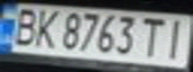3: (112, 12, 142, 56)
6: (96, 11, 121, 55)
7: (75, 10, 100, 53)
8: (57, 9, 84, 51)
B: (6, 4, 42, 47)
I: (157, 16, 193, 61)
K: (30, 7, 63, 48)
T: (136, 15, 169, 58)
